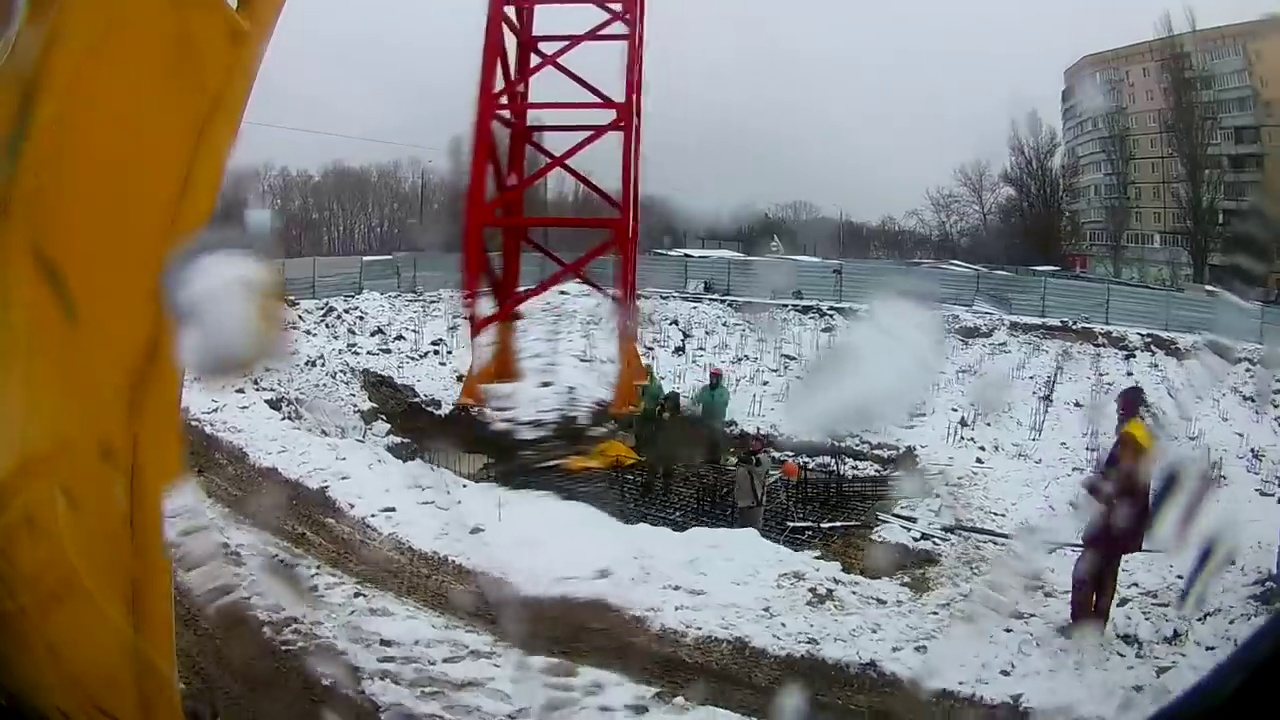helmet: (781, 459, 799, 481), (709, 370, 722, 379)
helmet-off: (1115, 384, 1153, 436), (745, 431, 765, 456)
helmet-on: (707, 369, 723, 390)
person: (1067, 384, 1154, 653), (732, 430, 770, 533), (695, 369, 730, 462), (639, 365, 663, 422)
